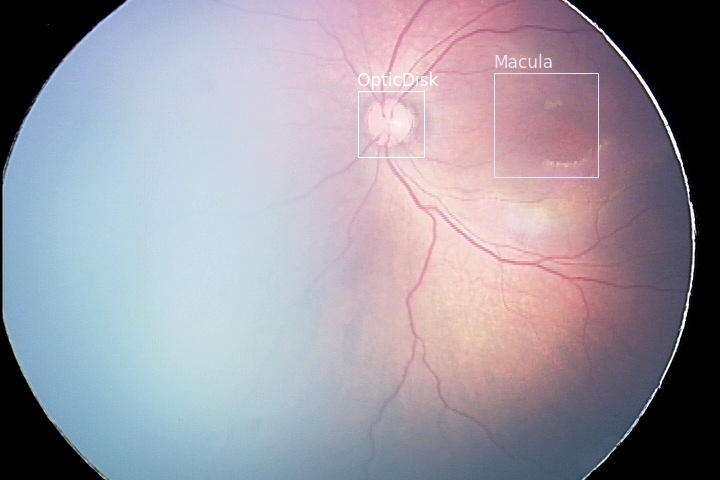Macula: (493, 72, 597, 176)
OpticDisk: (357, 90, 423, 156)
